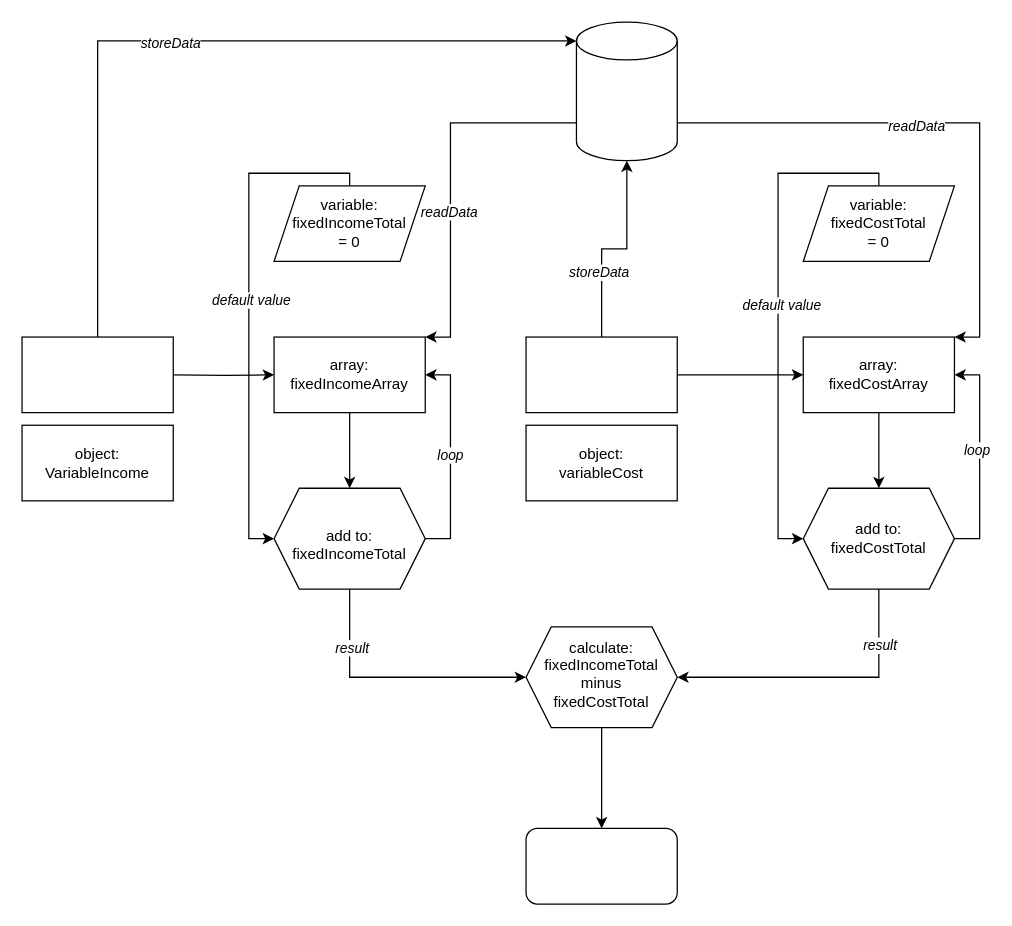
This 1012x926 diagram has some shape labels left out. The shapes that lost their labels are listed below. From the top down, each one's centre as x and y in pixels, then its label:
At point 626,91: "localStorage: myStore".
At point 97,374: "object: fixedIncome".
At point 601,374: "object: fixedCost".
At point 601,865: "Display result".
